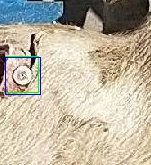text: (5, 56, 38, 92)
